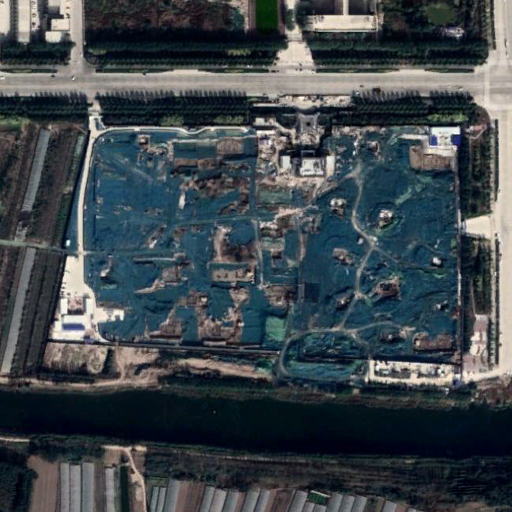cw: (68, 127, 460, 384)
